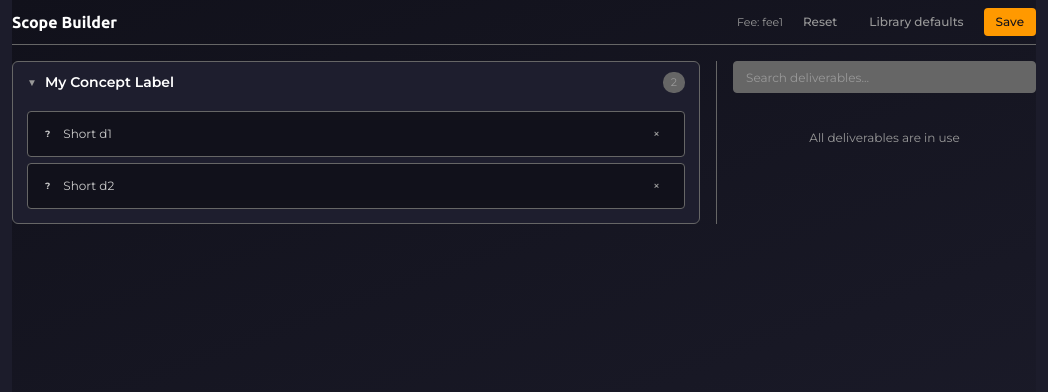
it: ScopeBuilder save state › review round 3 › shows saved custom stage labels and a save does not overwrite them
The width and height of the screenshot is (1048, 392).
Expected: the text "My Concept Label" is shown, [45,73,174,91]
What coordinates should you click on to do the following:
click the button titled "Remove deliverable" in the row of "Short d1"
I would click on:
 (656, 134)
Its box is [641,120,672,148].
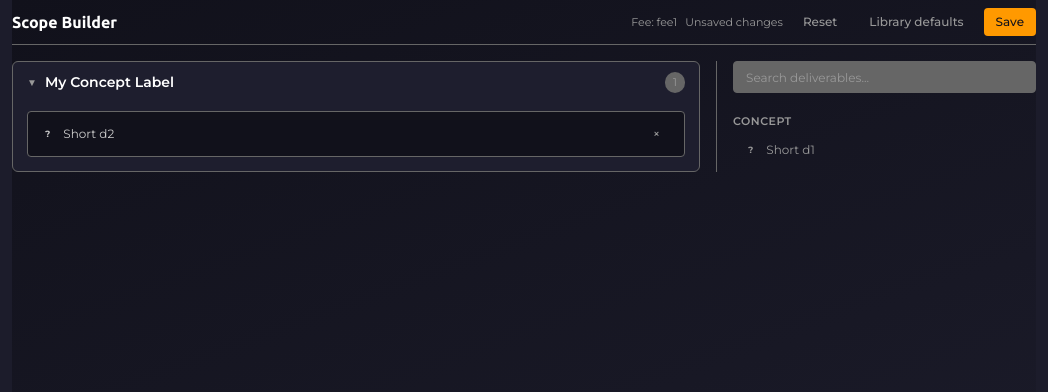
What coordinates should you click on to do the following:
click the button "Save"
I would click on:
 (1010, 22)
Its box is [984,8,1036,36].
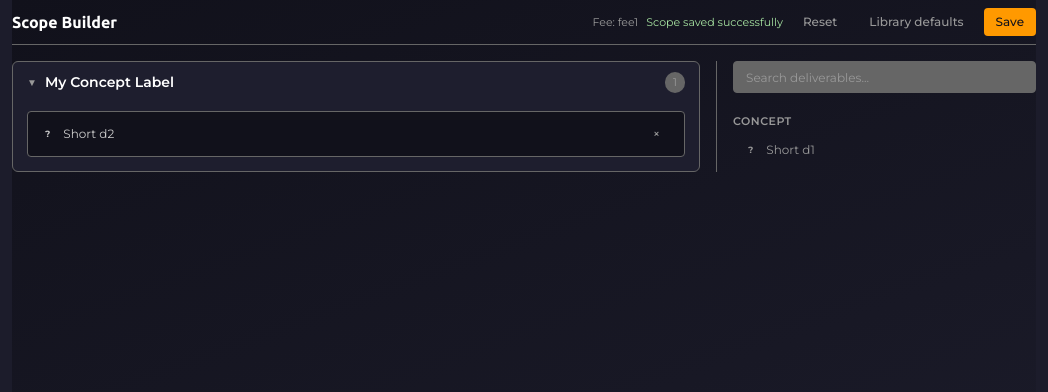
Expected: the text "Scope saved successfully" is shown, [646,14,783,30]
